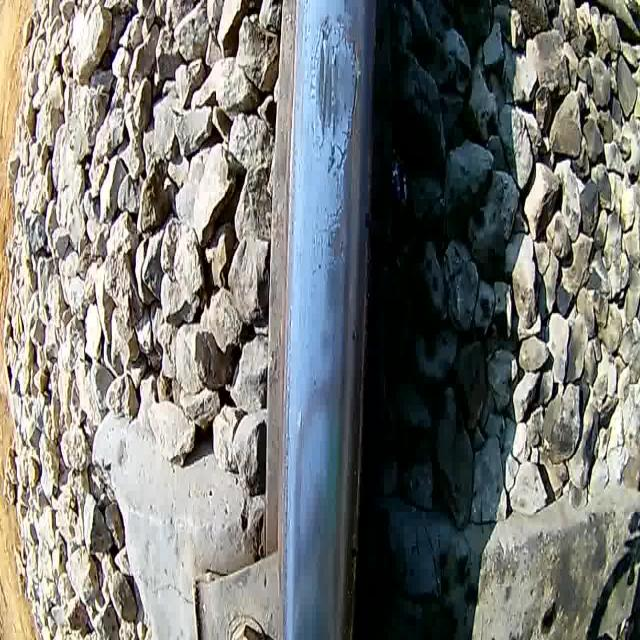Cracks: (335, 41, 361, 179), (324, 137, 338, 181)
Squats: (309, 15, 356, 130), (322, 196, 352, 270)
